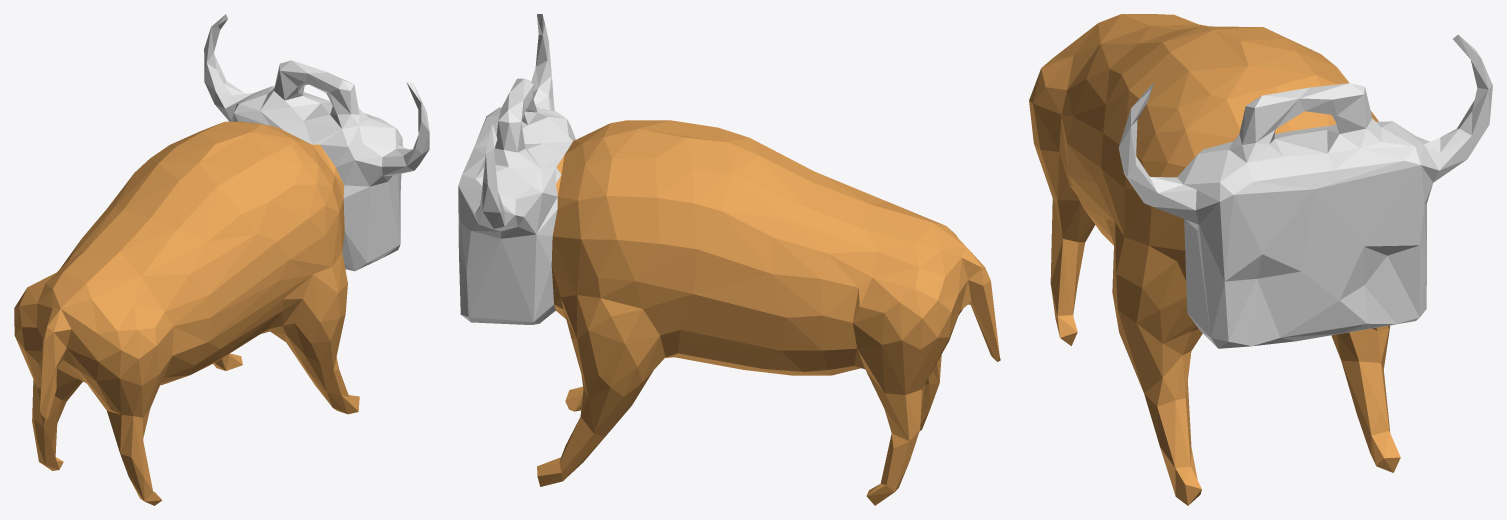
The model's file is maskotka.fbx.
The picture shows the model from 3 angles, left to right: view 1: azimuth 30°, elevation 25°; view 2: azimuth 150°, elevation 25°; view 3: azimuth 270°, elevation 25°; orthographic projection. The views are drawn at different scales.
Parts seen in each view (by area): view 1: kursd_kod; view 2: kursd_kod; view 3: kursd_kod.
Part boxes in pixels (left/top/right/bottom): kursd_kod: left=14, top=14, right=429, bottom=505; kursd_kod: left=458, top=14, right=1000, bottom=505; kursd_kod: left=1029, top=14, right=1492, bottom=505.
Bounding box in the file's own units: 6.73 × 5.32 × 4.93.
